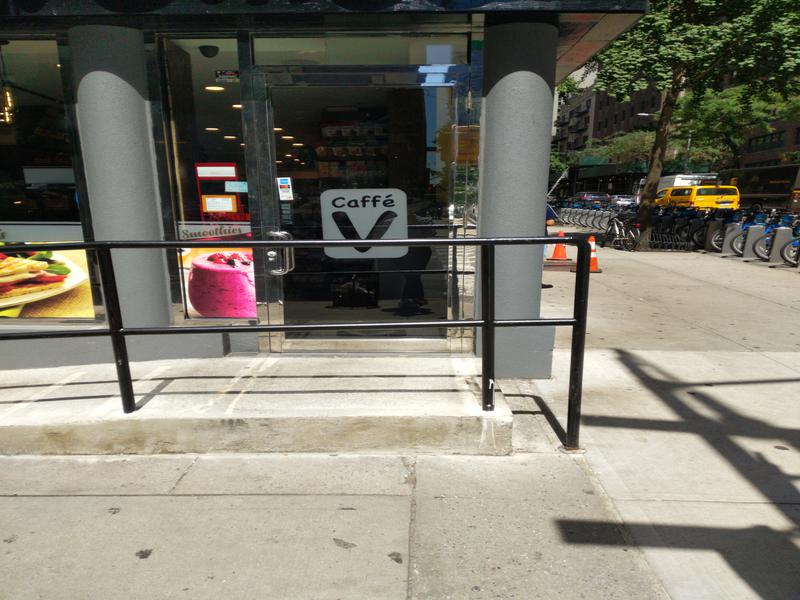door: (251, 76, 473, 360)
